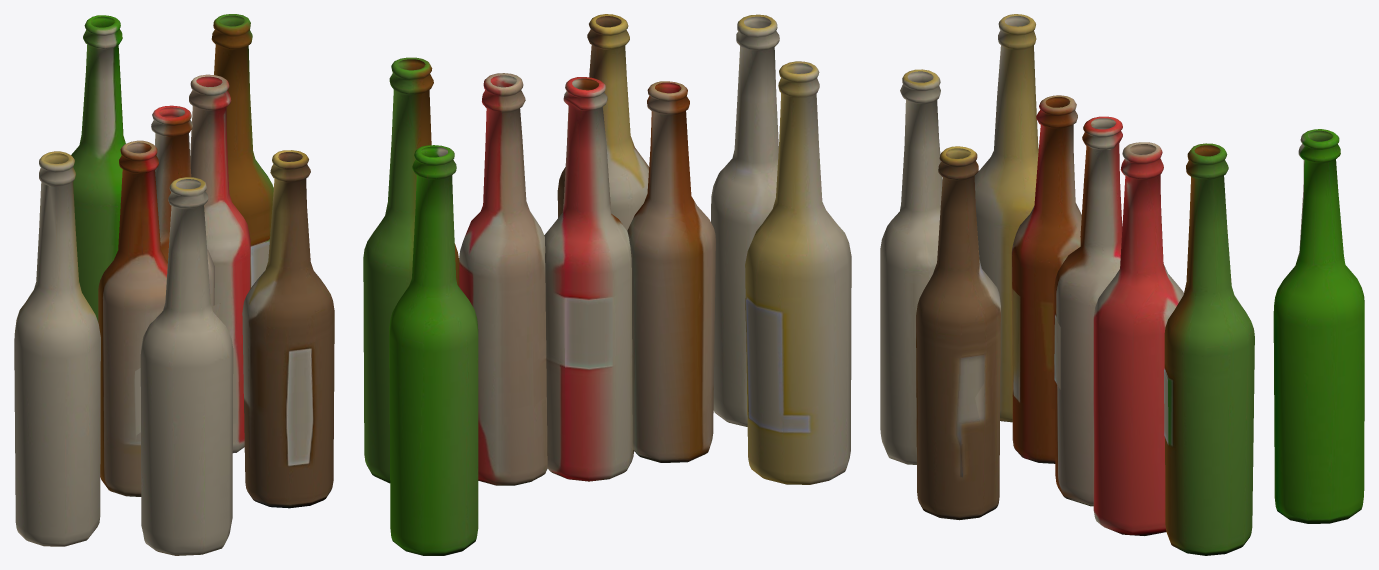
3 renders of one model, left to right at view 1: azimuth 30°, elevation 25°; view 2: azimuth 150°, elevation 25°; view 3: azimuth 270°, elevation 25°, orthographic. The views are drawn at different scales.
Size of the model in its own units: 0.8521 by 0.9058 by 0.9995.
Materials: 1 (1 with a texture image).
